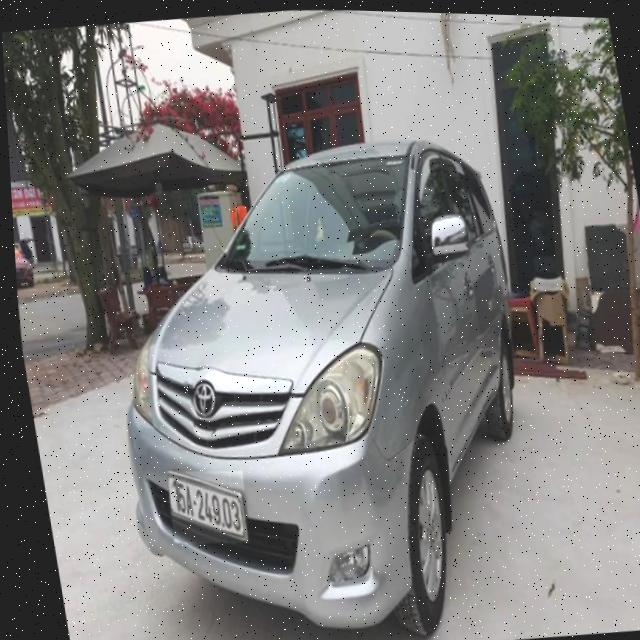car: (86, 111, 575, 640)
plate: (158, 463, 254, 552)
